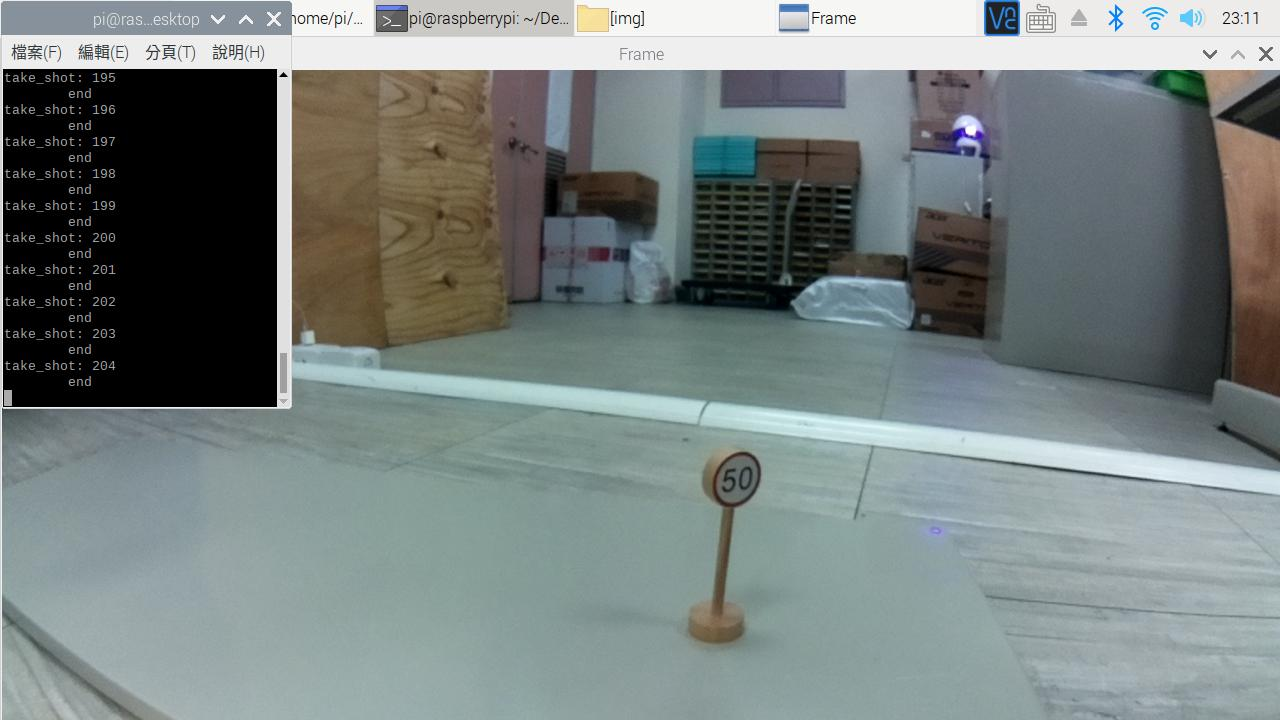Speed50: (681, 439, 782, 524)
